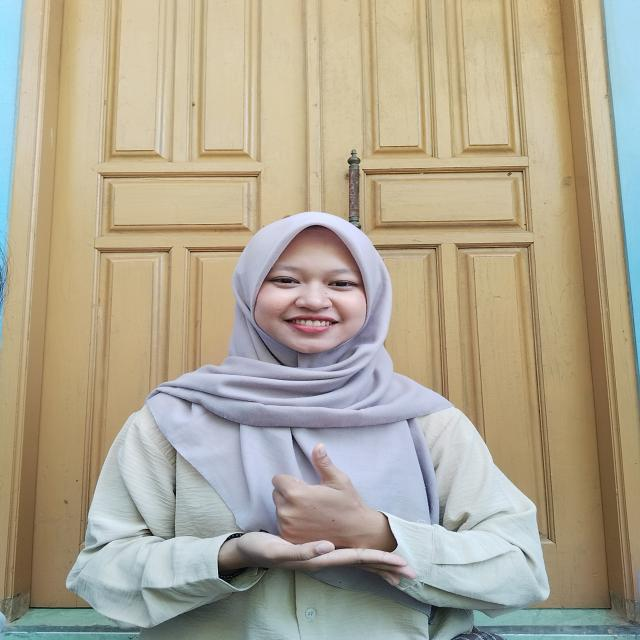cantik: (220, 432, 398, 608)
